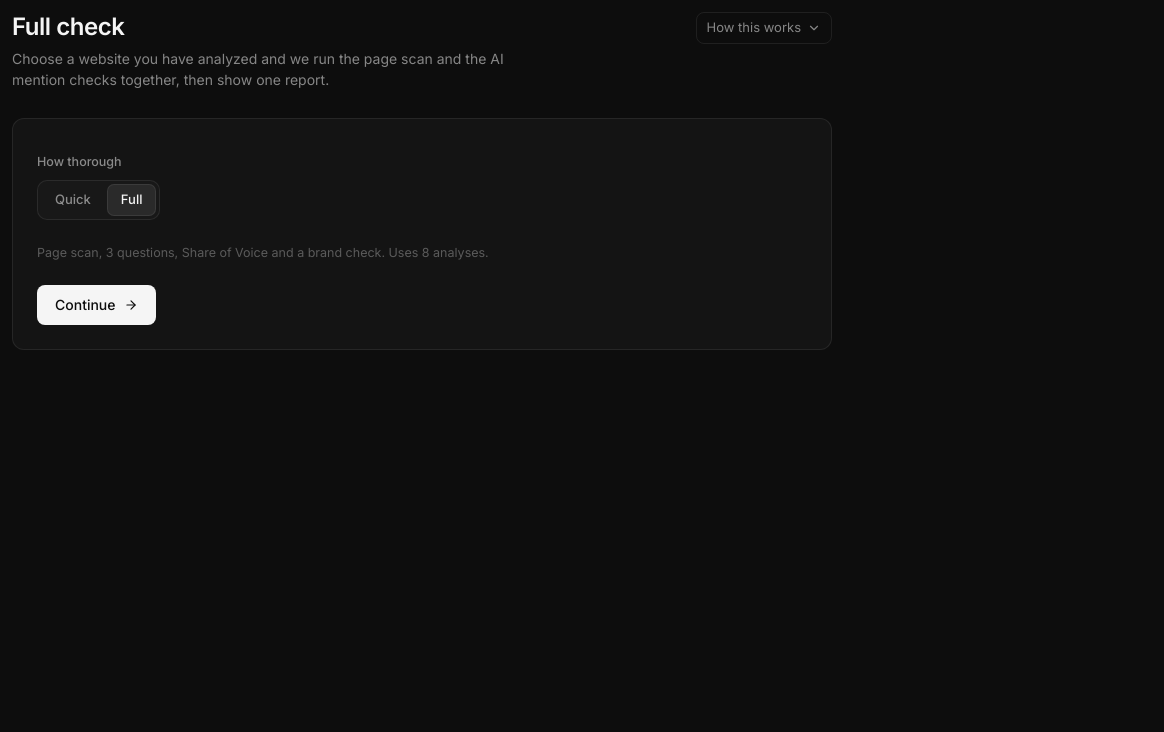
Full check flow › still shows the report when the page scan fails, and says which part did not run
This screenshot has width=1164, height=732.
Click the button "Continue". click: (96, 304)
box: top-left (37, 284), bottom-right (156, 324)
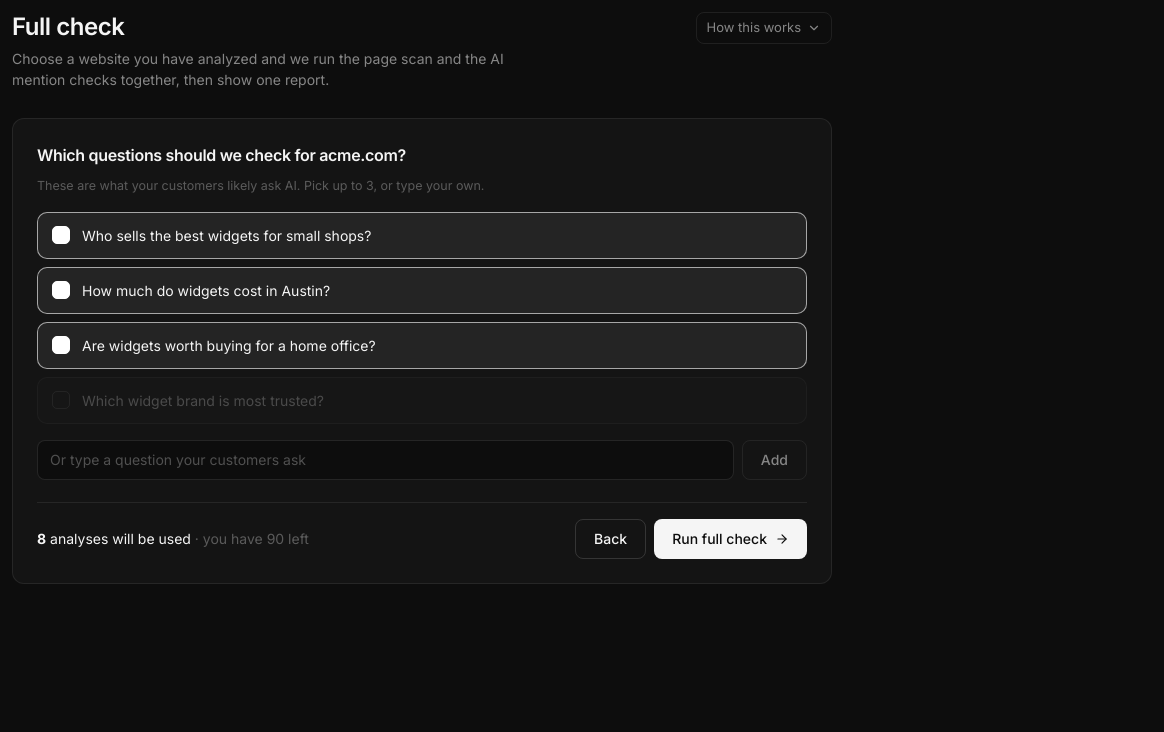
expect the button "Who sells the best widgets for small shops?" is shown: met, box top-left (37, 212), bottom-right (807, 259)
Click the button "Run full check". click: (731, 539)
box: top-left (654, 519), bottom-right (807, 559)
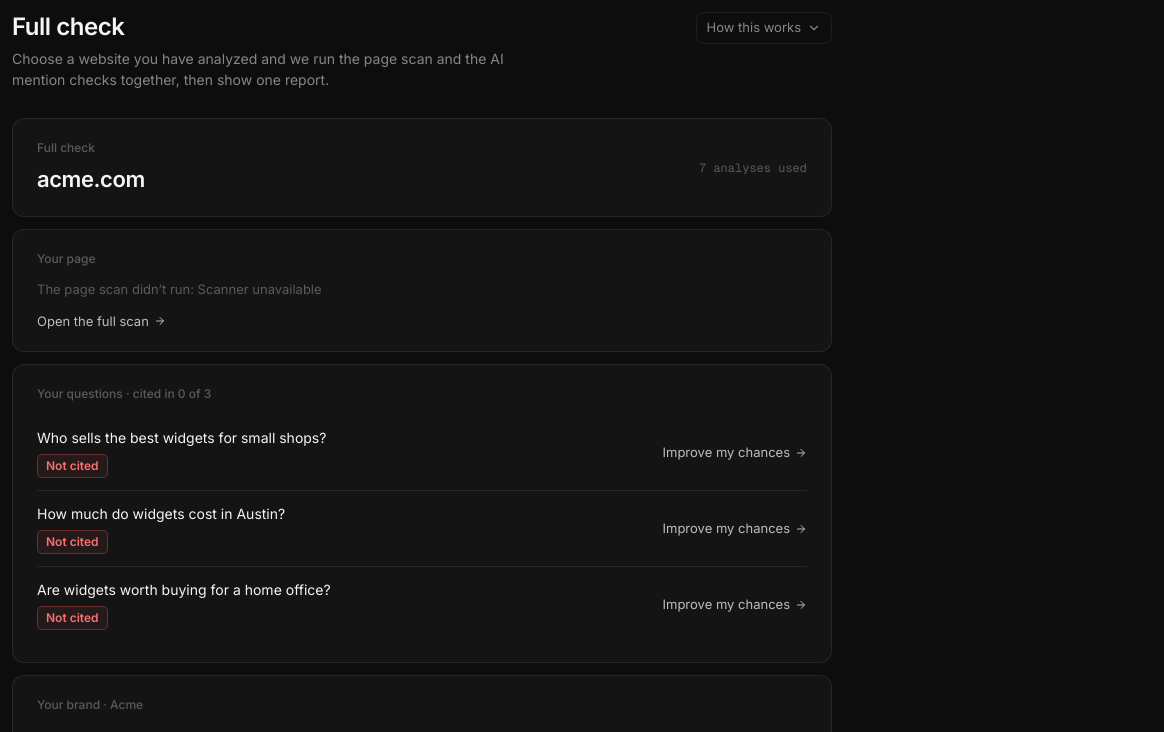
expect the text "The page scan didn’t run: Scanner unavailable" is shown: met, box top-left (37, 281), bottom-right (322, 297)
expect the text "7 analyses used" is shown: met, box top-left (699, 158), bottom-right (807, 176)
